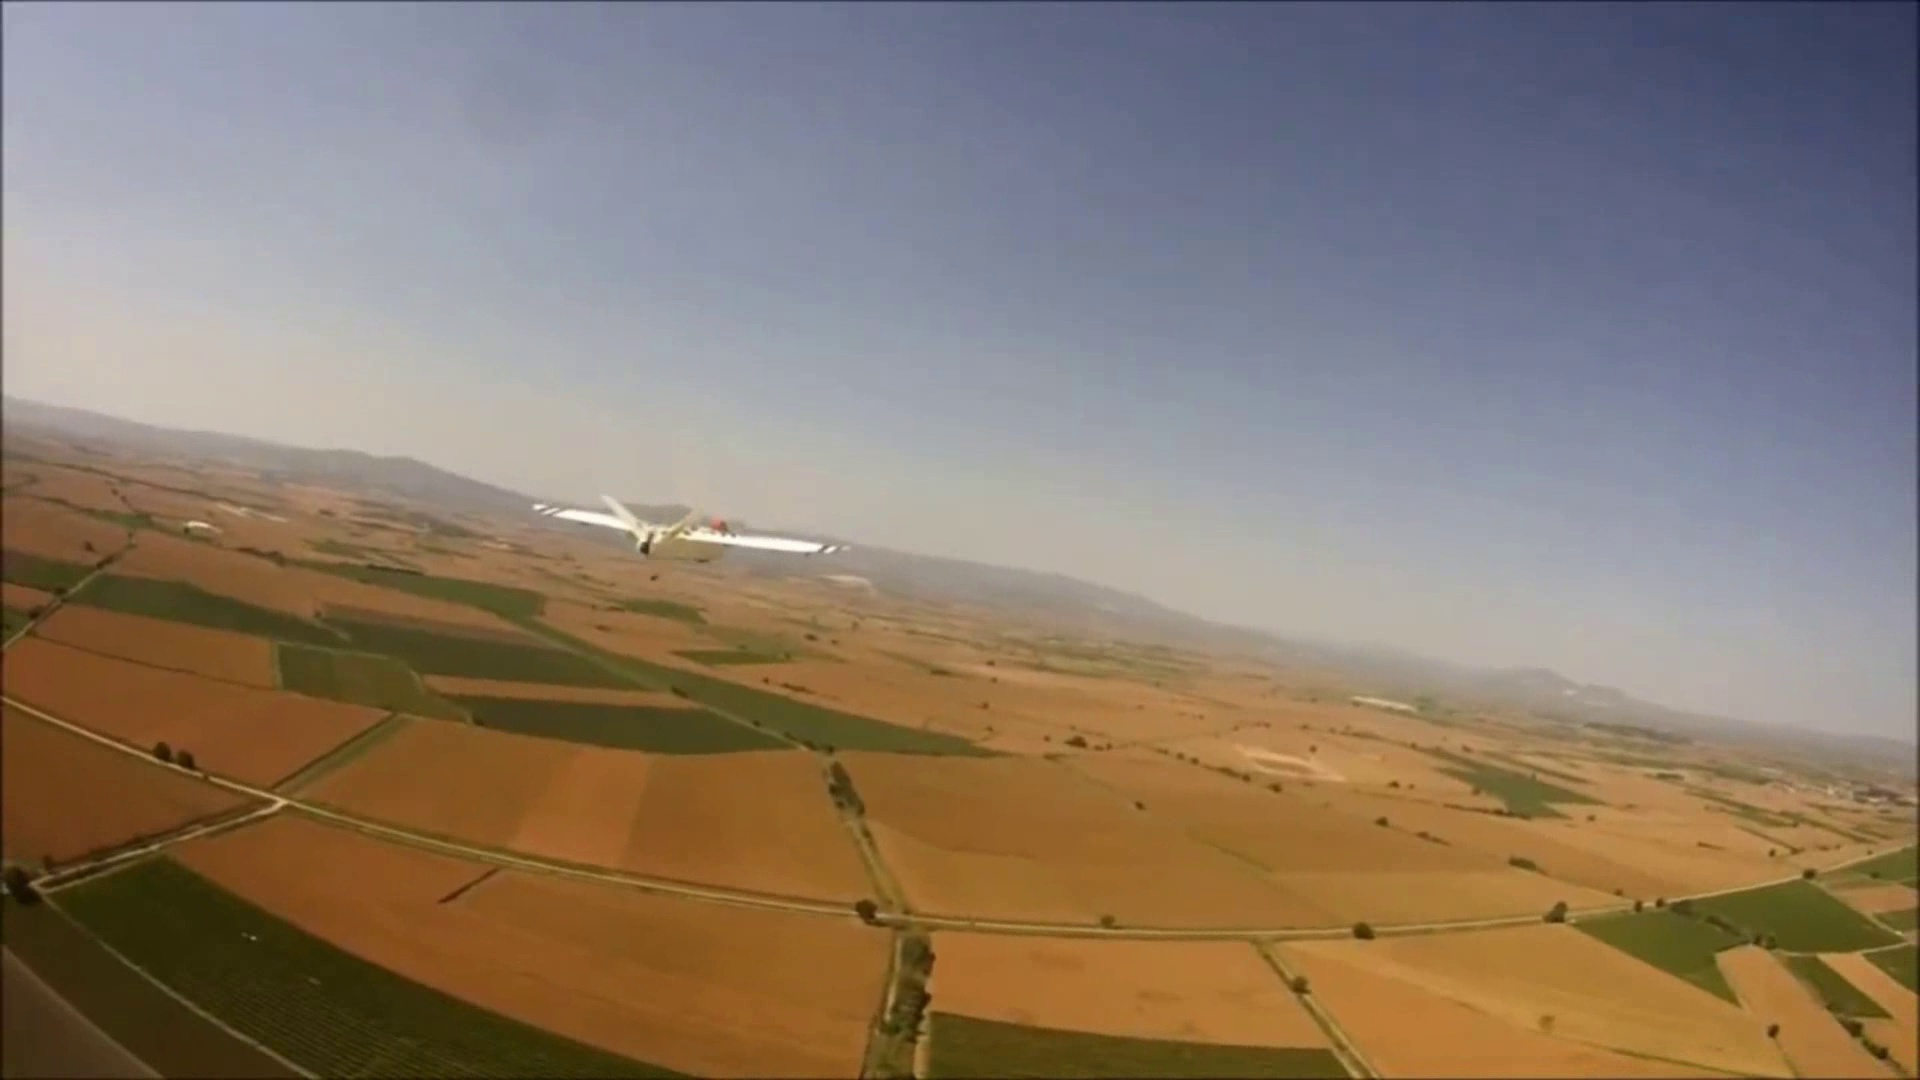airplane: (543, 495, 843, 563)
